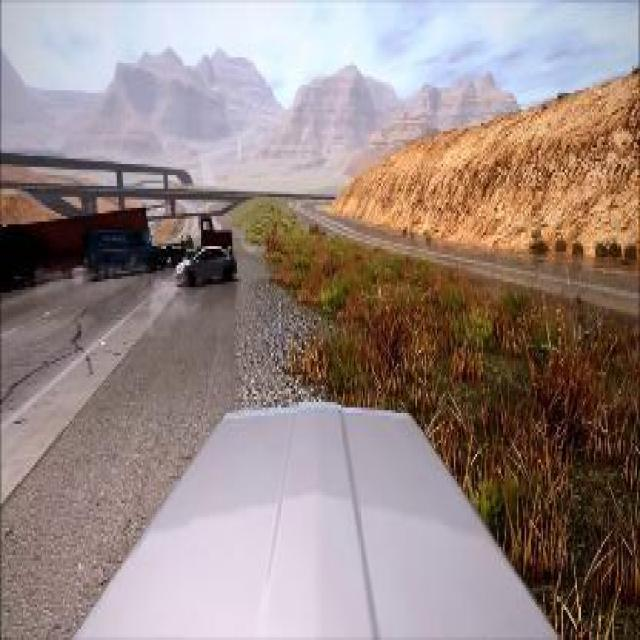accident: (0, 197, 158, 282)
